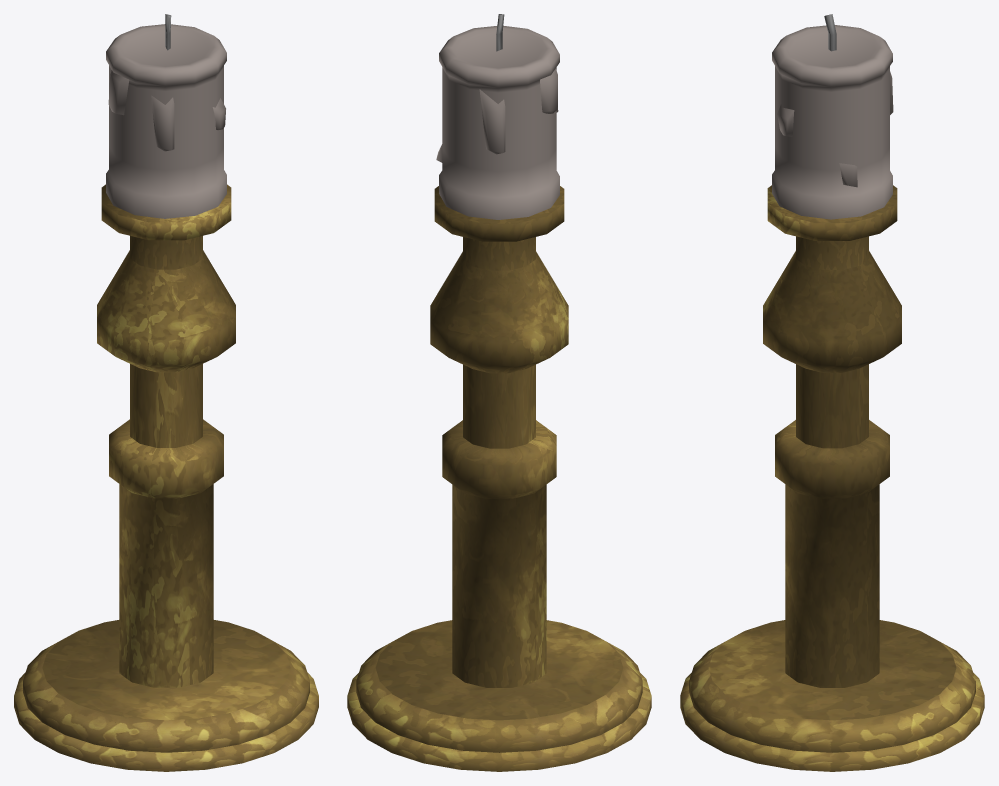
File: DI_051_candle.glb
3 renders of one model, left to right at view 1: azimuth 30°, elevation 25°; view 2: azimuth 150°, elevation 25°; view 3: azimuth 270°, elevation 25°, orthographic.
Visible parts, largest first — view 1: CandleStand, Candle; view 2: CandleStand, Candle; view 3: CandleStand, Candle.
Part boxes in pixels (box(x1,y1,x2,y2)): CandleStand: box(14, 184, 318, 771); Candle: box(106, 24, 226, 218); CandleStand: box(347, 186, 651, 771); Candle: box(436, 25, 559, 219); CandleStand: box(680, 185, 984, 771); Candle: box(772, 25, 893, 219).
Bounding box in the file's own units: 0.7735 × 1.94 × 0.7735.
Materials: 3 (1 with a texture image).
